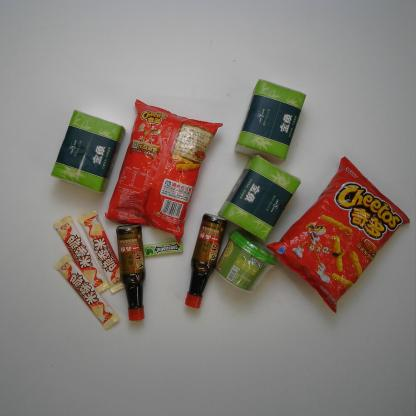Chocolate: (51, 252, 121, 332), (50, 213, 111, 296), (76, 207, 130, 294)
Gum: (142, 240, 184, 257)
Instant Drink: (212, 227, 281, 297)
Puffed Food: (266, 154, 410, 314), (102, 94, 226, 246)
Seasoner: (183, 211, 229, 311), (115, 223, 147, 322)
Tissue: (216, 152, 303, 243), (232, 76, 311, 168), (49, 108, 127, 196)
